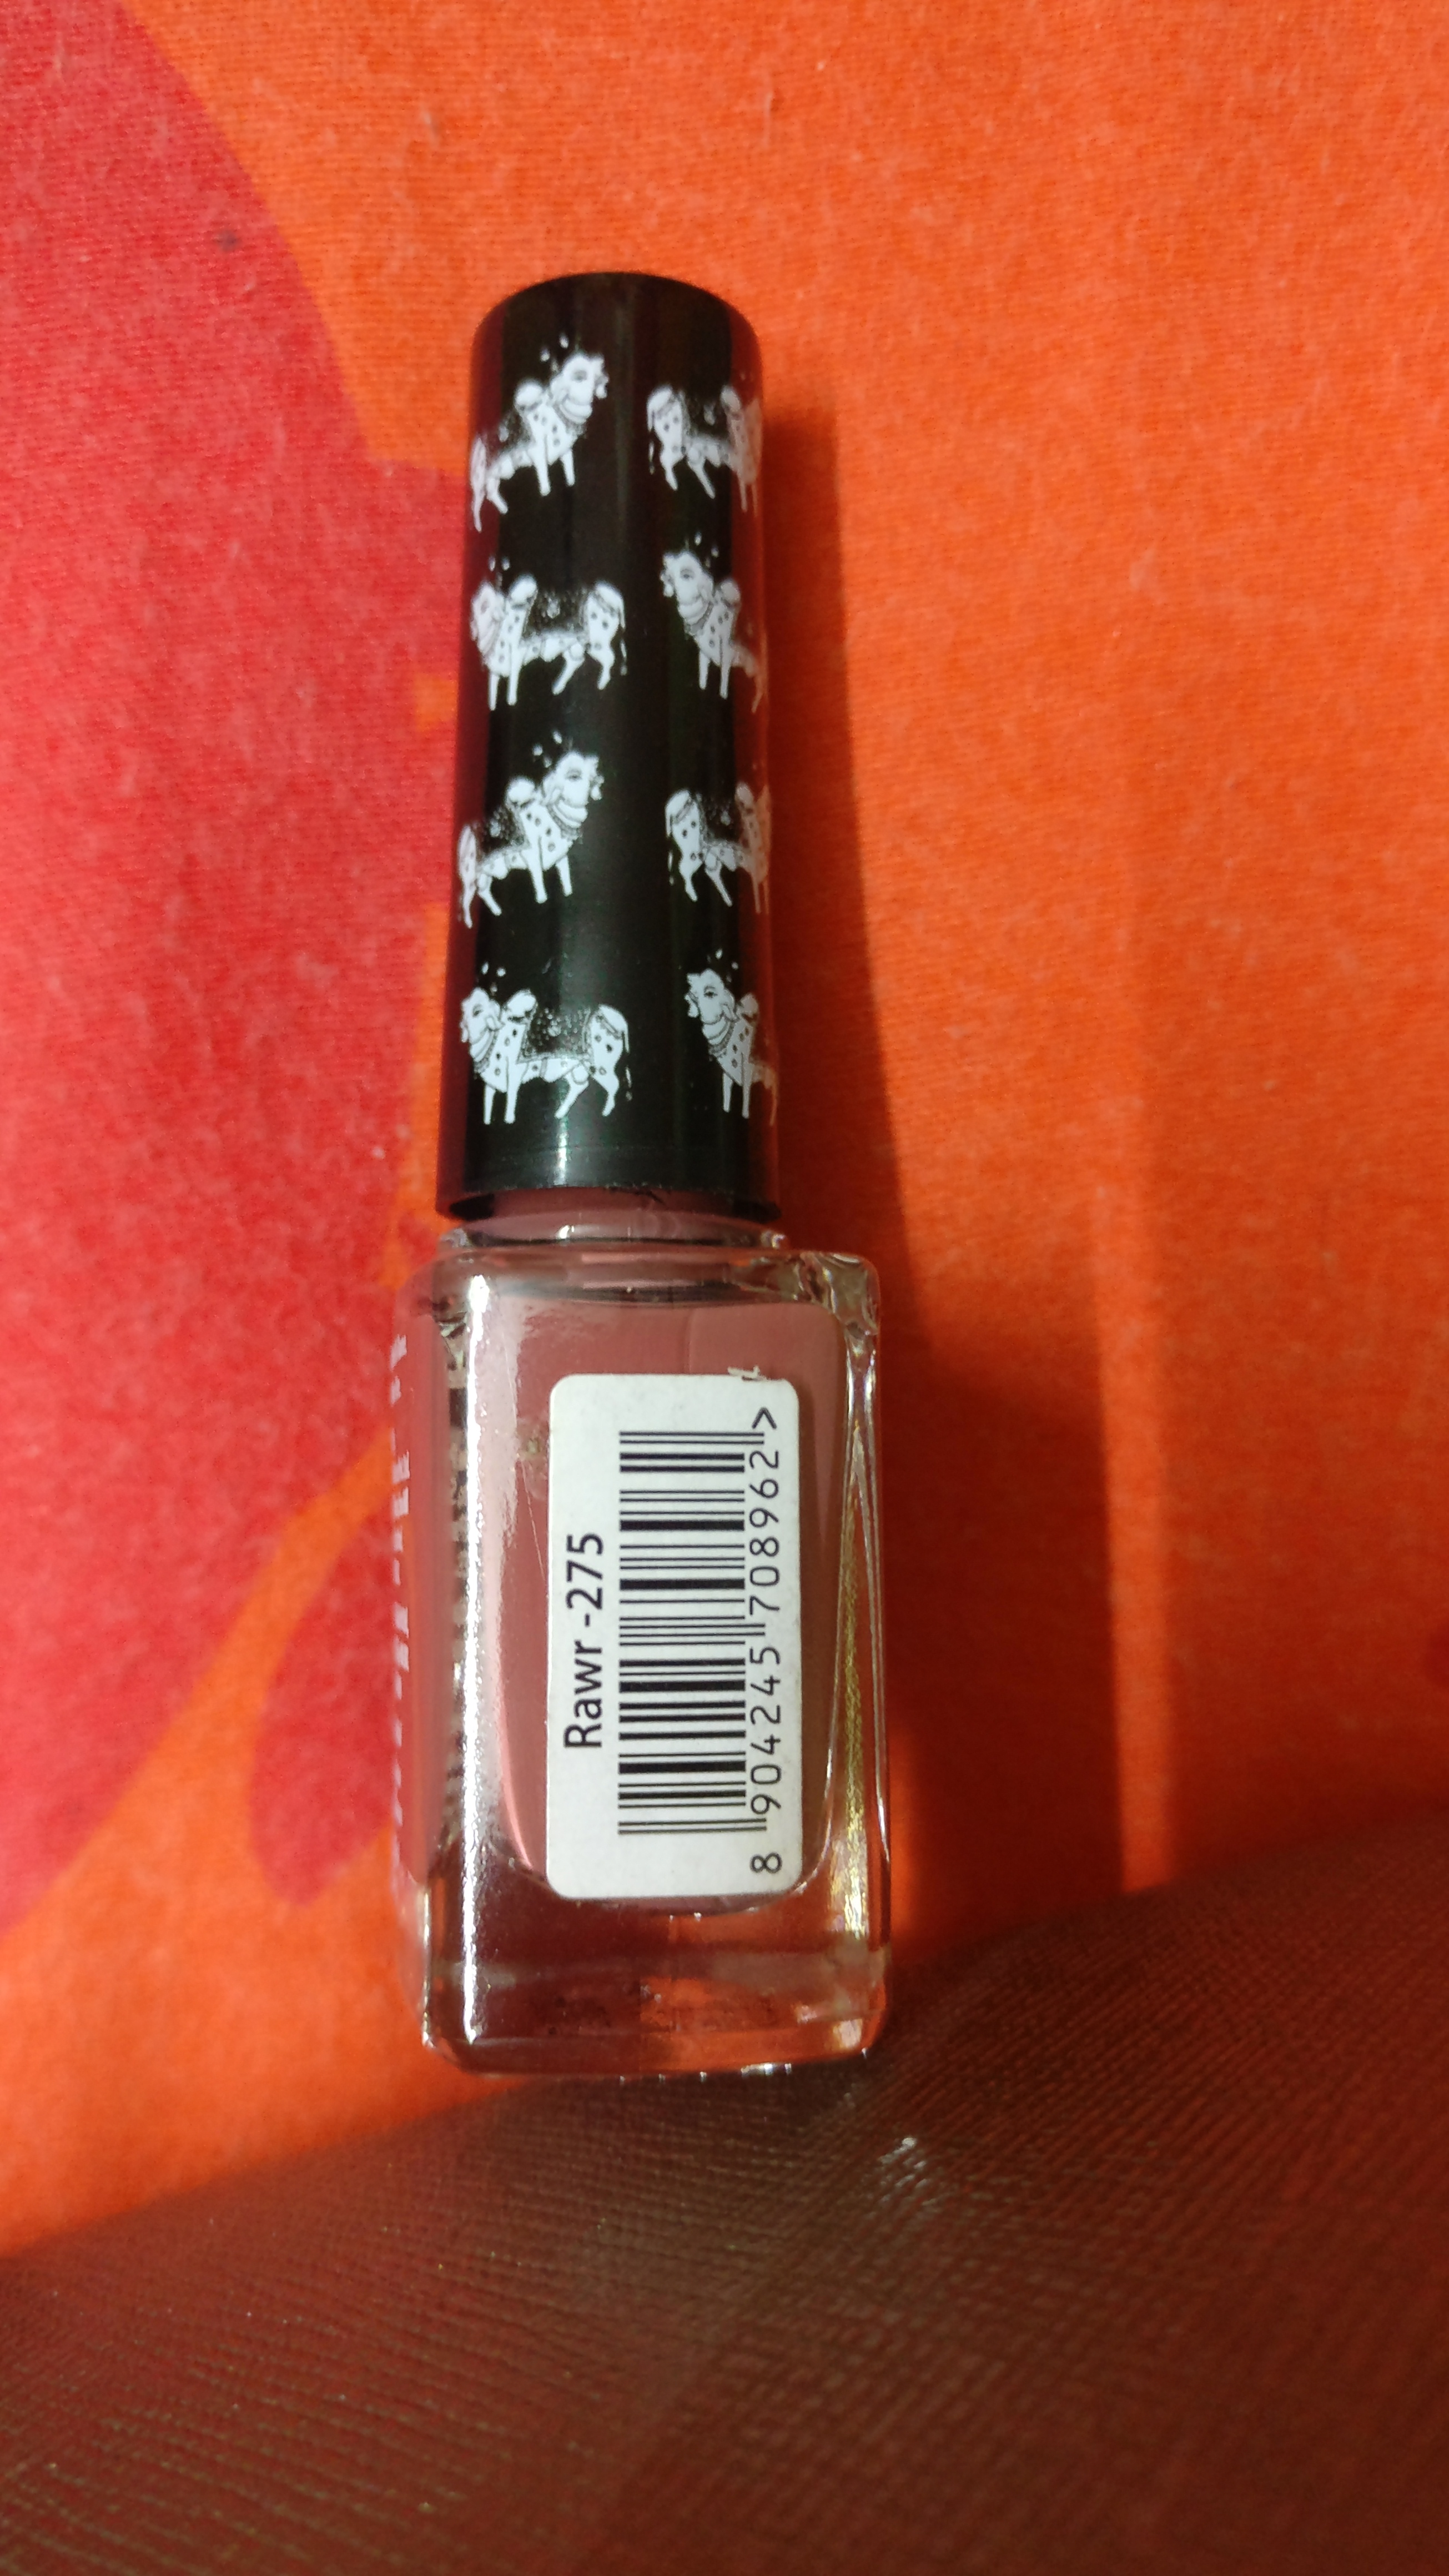barcode: (602, 1424, 803, 1897)
